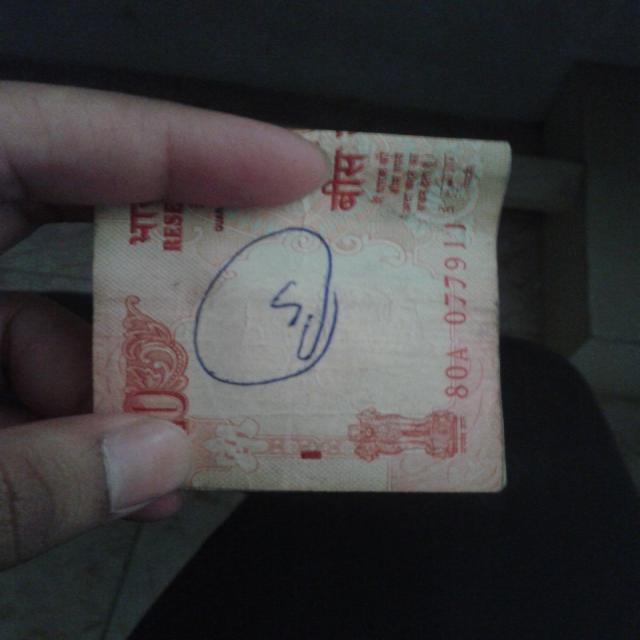20rs: (87, 124, 510, 496)
